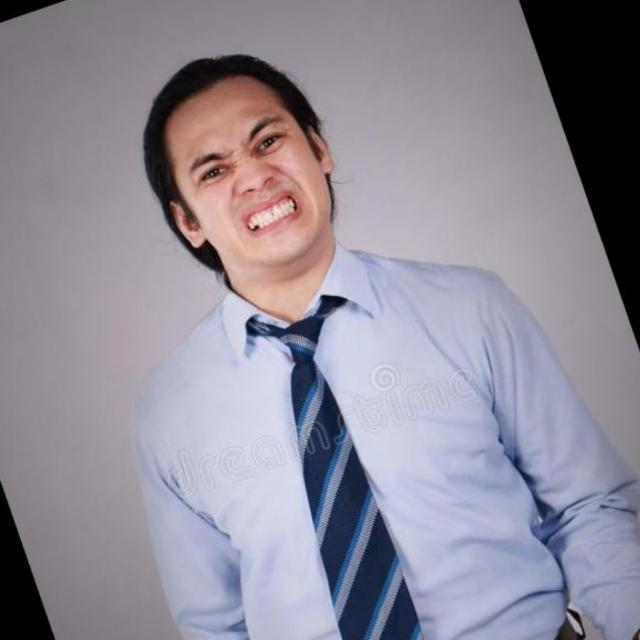Angry: (66, 42, 405, 334)
